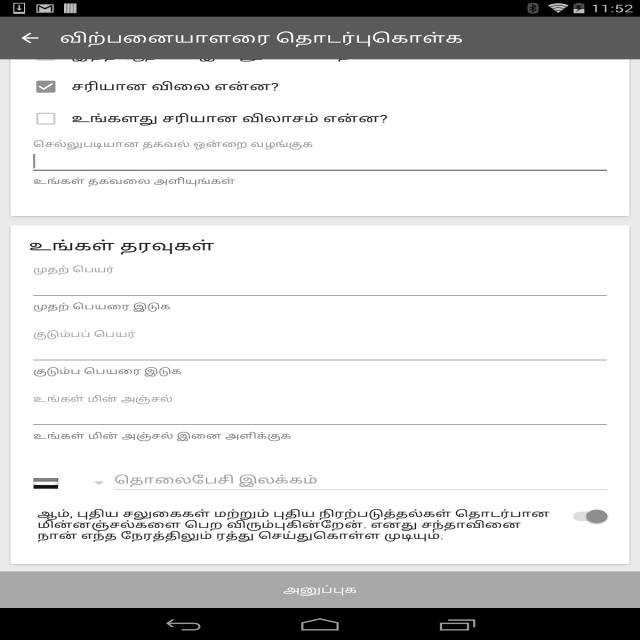CheckBox: (29, 108, 388, 129), (29, 44, 370, 65), (29, 76, 279, 97)
EditText: (29, 147, 611, 176), (29, 337, 611, 366), (29, 273, 611, 301), (29, 402, 611, 430), (110, 467, 611, 495)
ImageButton: (0, 30, 60, 46)
ImageView: (33, 476, 59, 492)
Spinner: (33, 470, 110, 497)
Switch: (29, 507, 611, 542)
TextView: (0, 571, 640, 608), (29, 237, 611, 254), (60, 29, 463, 47), (33, 431, 291, 442), (33, 176, 235, 187), (33, 301, 171, 312), (33, 366, 182, 376)
